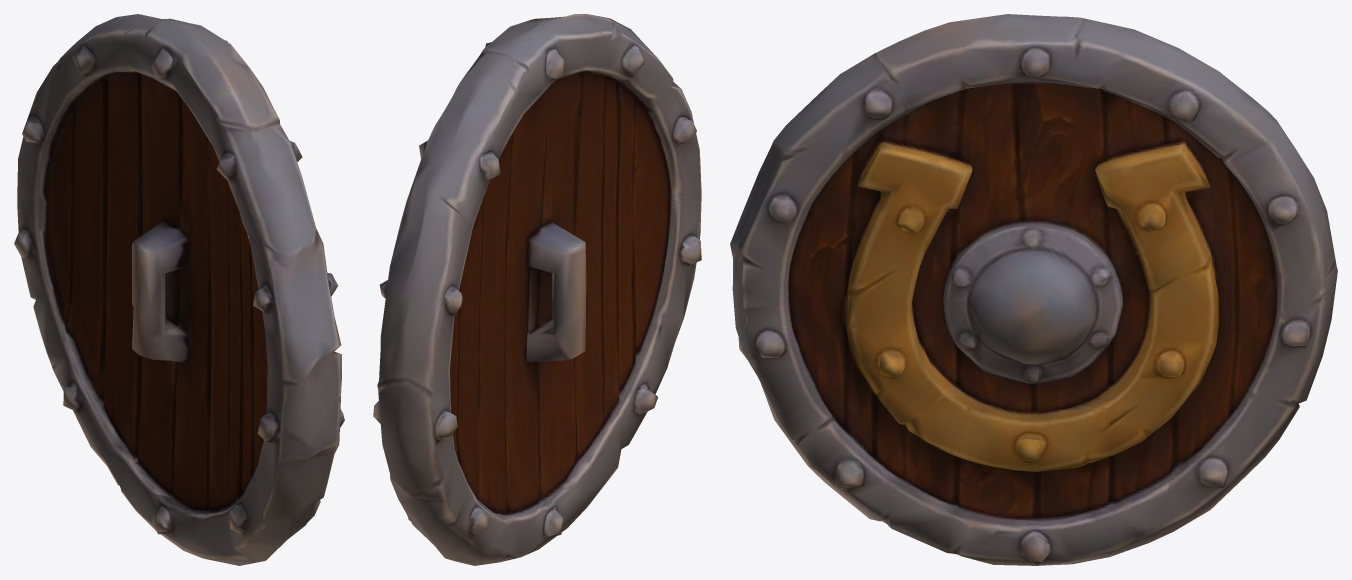
The model's file is shield.glb.
The picture shows the model from 3 angles, left to right: view 1: azimuth 30°, elevation 25°; view 2: azimuth 150°, elevation 25°; view 3: azimuth 270°, elevation 25°; orthographic projection. The views are drawn at different scales.
Visible parts, largest first — view 1: shield; view 2: shield; view 3: shield.
Boxes of the visible parts, x1,y1,x2,y2 form: shield: (14,14,344,565); shield: (373,14,701,565); shield: (730,14,1337,565).
Bounding box in the file's own units: 0.1914 × 0.75 × 0.7536.
Materials: 1 (1 with a texture image).
